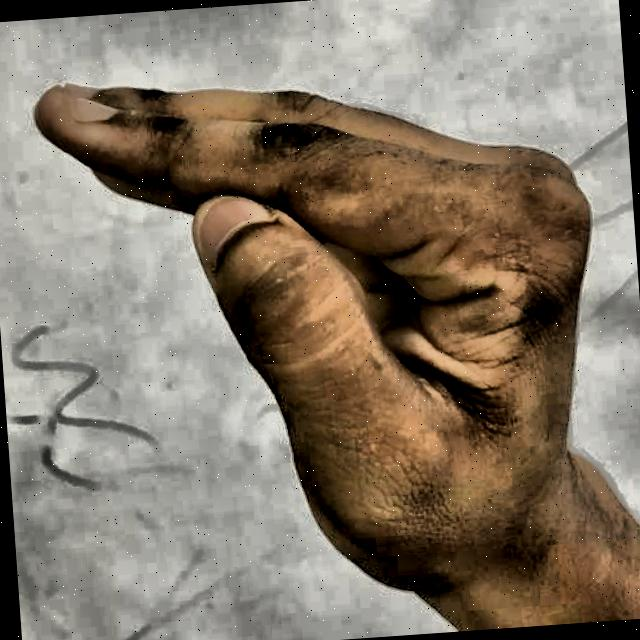Ga: (26, 20, 632, 632)
